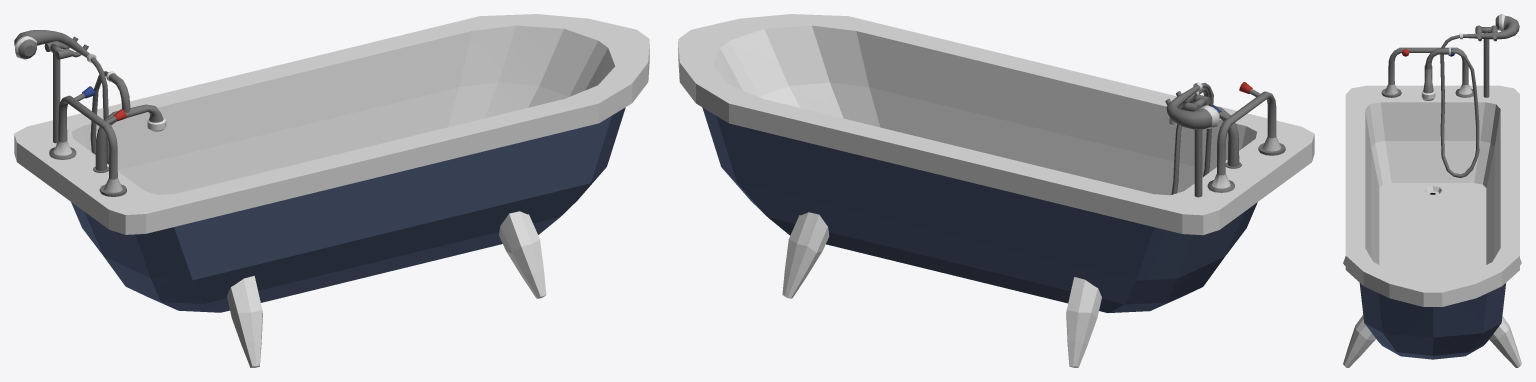
Rendered from SM_Bath_01.glb.
3 renders of one model, left to right at view 1: azimuth 30°, elevation 25°; view 2: azimuth 150°, elevation 25°; view 3: azimuth 270°, elevation 25°, orthographic. The views are drawn at different scales.
Parts seen in each view (by area): view 1: SM_Bath_01; view 2: SM_Bath_01; view 3: SM_Bath_01.
Part boxes in pixels (left/top/right/bottom): SM_Bath_01: left=14, top=14, right=649, bottom=367; SM_Bath_01: left=678, top=14, right=1314, bottom=367; SM_Bath_01: left=1343, top=14, right=1521, bottom=367.
Size of the model in its own units: 2.6 by 1.21 by 0.9482.
1 material, 1 textured.
